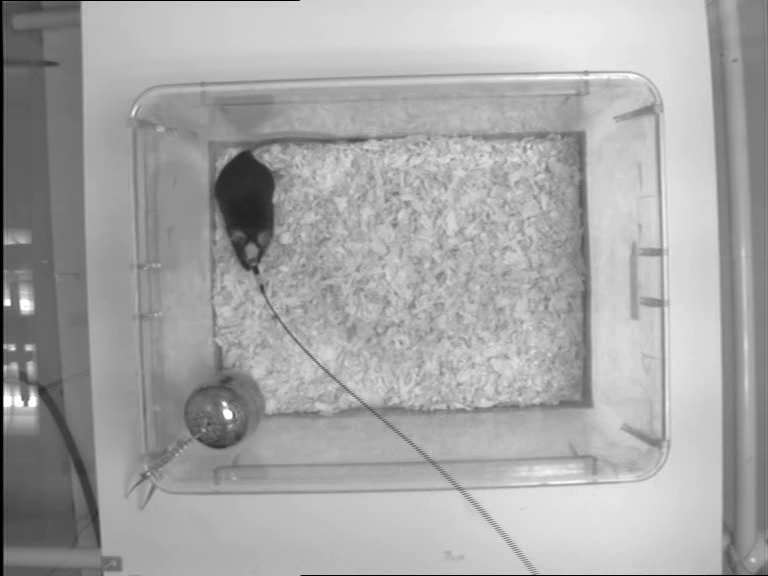mice: (210, 129, 402, 277)
